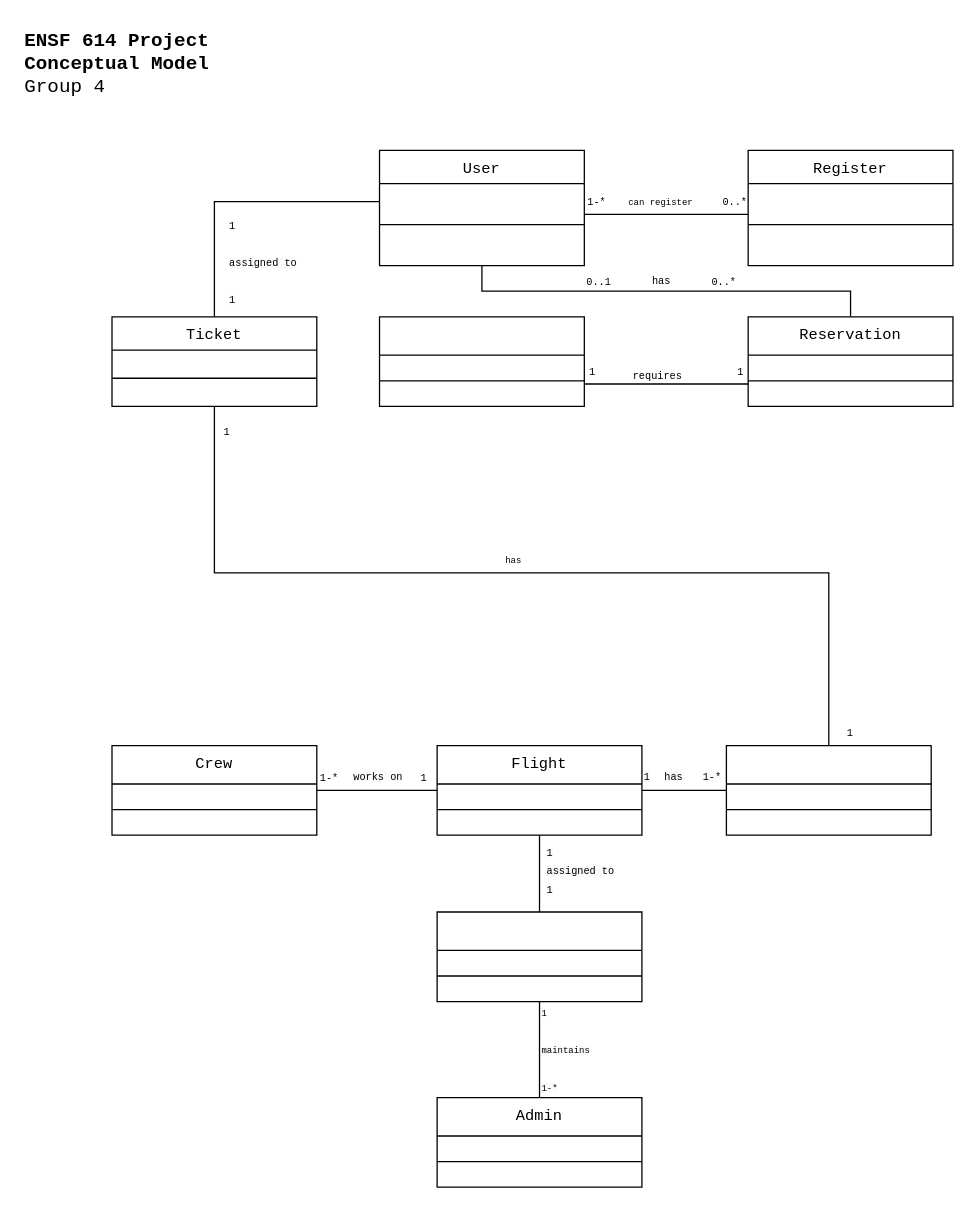
This 975x1210 diagram has some shape labels left out. The shapes that lost their labels are listed below. From the top down, each one's box as (x1, y1, x2, y2) in pixels, then its label:
(378, 316, 584, 406): Payment
(725, 744, 931, 835): Seat
(436, 911, 642, 1002): Aircraft
